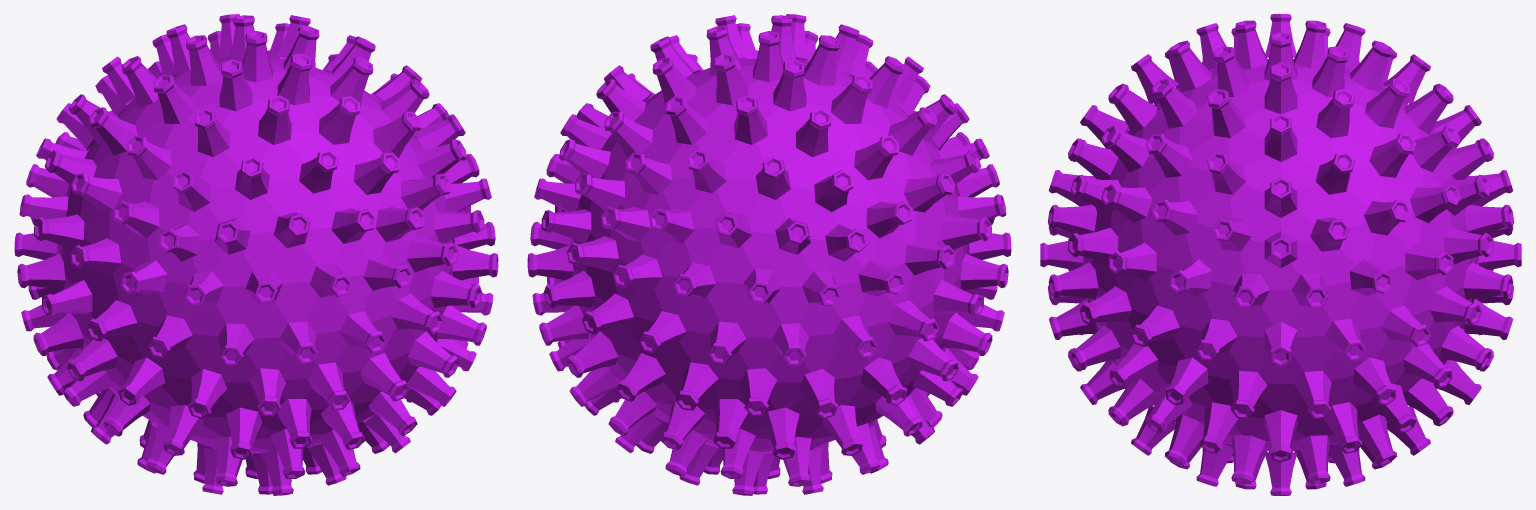
The model's file is roller.fbx.
The picture shows the model from 3 angles, left to right: view 1: azimuth 30°, elevation 25°; view 2: azimuth 150°, elevation 25°; view 3: azimuth 270°, elevation 25°; orthographic projection.
Visible parts, largest first — view 1: Icosphere.001, Icosphere.001|Cylinder|Dupli|96, Icosphere.001|Cylinder|Dupli|261, Icosphere.001|Cylinder|Dupli|257, Icosphere.001|Cylinder|Dupli|146, Icosphere.001|Cylinder|Dupli|56, Icosphere.001|Cylinder|Dupli|265, Icosphere.001|Cylinder|Dupli|104, Icosphere.001|Cylinder|Dupli|102, Icosphere.001|Cylinder|Dupli|213, Icosphere.001|Cylinder|Dupli|98, Icosphere.001|Cylinder|Dupli|200 (+86 smaller); view 2: Icosphere.001, Icosphere.001|Cylinder|Dupli|124, Icosphere.001|Cylinder|Dupli|244, Icosphere.001|Cylinder|Dupli|254, Icosphere.001|Cylinder|Dupli|146, Icosphere.001|Cylinder|Dupli|70, Icosphere.001|Cylinder|Dupli|246, Icosphere.001|Cylinder|Dupli|117, Icosphere.001|Cylinder|Dupli|119, Icosphere.001|Cylinder|Dupli|193, Icosphere.001|Cylinder|Dupli|122, Icosphere.001|Cylinder|Dupli|200 (+86 smaller); view 3: Icosphere.001, Icosphere.001|Cylinder|Dupli|96, Icosphere.001|Cylinder|Dupli|124, Icosphere.001|Cylinder|Dupli|244, Icosphere.001|Cylinder|Dupli|261, Icosphere.001|Cylinder|Dupli|246, Icosphere.001|Cylinder|Dupli|265, Icosphere.001|Cylinder|Dupli|94, Icosphere.001|Cylinder|Dupli|126, Icosphere.001|Cylinder|Dupli|137, Icosphere.001|Cylinder|Dupli|156, Icosphere.001|Cylinder|Dupli|163 (+80 smaller).
Part boxes in pixels (left/top/right/bottom): Icosphere.001: left=58, top=58, right=452, bottom=451; Icosphere.001|Cylinder|Dupli|96: left=430, top=270, right=482, bottom=307; Icosphere.001|Cylinder|Dupli|261: left=392, top=293, right=443, bottom=334; Icosphere.001|Cylinder|Dupli|257: left=118, top=357, right=165, bottom=405; Icosphere.001|Cylinder|Dupli|146: left=71, top=173, right=122, bottom=212; Icosphere.001|Cylinder|Dupli|56: left=226, top=407, right=262, bottom=459; Icosphere.001|Cylinder|Dupli|265: left=407, top=331, right=459, bottom=377; Icosphere.001|Cylinder|Dupli|104: left=67, top=338, right=117, bottom=381; Icosphere.001|Cylinder|Dupli|102: left=86, top=300, right=137, bottom=341; Icosphere.001|Cylinder|Dupli|213: left=373, top=111, right=421, bottom=157; Icosphere.001|Cylinder|Dupli|98: left=407, top=236, right=458, bottom=272; Icosphere.001|Cylinder|Dupli|200: left=153, top=75, right=194, bottom=123; Icosphere.001: left=573, top=58, right=967, bottom=451; Icosphere.001|Cylinder|Dupli|124: left=543, top=270, right=595, bottom=307; Icosphere.001|Cylinder|Dupli|244: left=582, top=293, right=633, bottom=334; Icosphere.001|Cylinder|Dupli|254: left=860, top=357, right=907, bottom=405; Icosphere.001|Cylinder|Dupli|146: left=903, top=173, right=954, bottom=212; Icosphere.001|Cylinder|Dupli|70: left=763, top=407, right=799, bottom=459; Icosphere.001|Cylinder|Dupli|246: left=566, top=331, right=618, bottom=377; Icosphere.001|Cylinder|Dupli|117: left=908, top=338, right=958, bottom=381; Icosphere.001|Cylinder|Dupli|119: left=888, top=300, right=939, bottom=341; Icosphere.001|Cylinder|Dupli|193: left=604, top=111, right=652, bottom=157; Icosphere.001|Cylinder|Dupli|122: left=567, top=236, right=618, bottom=272; Icosphere.001|Cylinder|Dupli|200: left=831, top=75, right=872, bottom=123; Icosphere.001: left=1083, top=59, right=1478, bottom=450; Icosphere.001|Cylinder|Dupli|96: left=1080, top=286, right=1131, bottom=325; Icosphere.001|Cylinder|Dupli|124: left=1430, top=286, right=1481, bottom=325; Icosphere.001|Cylinder|Dupli|244: left=1463, top=262, right=1513, bottom=299; Icosphere.001|Cylinder|Dupli|261: left=1048, top=262, right=1098, bottom=299; Icosphere.001|Cylinder|Dupli|246: left=1440, top=325, right=1490, bottom=369; Icosphere.001|Cylinder|Dupli|265: left=1071, top=325, right=1121, bottom=369; Icosphere.001|Cylinder|Dupli|94: left=1109, top=343, right=1158, bottom=387; Icosphere.001|Cylinder|Dupli|126: left=1403, top=343, right=1452, bottom=387; Icosphere.001|Cylinder|Dupli|137: left=1101, top=184, right=1152, bottom=223; Icosphere.001|Cylinder|Dupli|156: left=1409, top=184, right=1460, bottom=223; Icosphere.001|Cylinder|Dupli|163: left=1152, top=78, right=1196, bottom=128.
Bounding box in the file's own units: 243 × 243 × 243.
